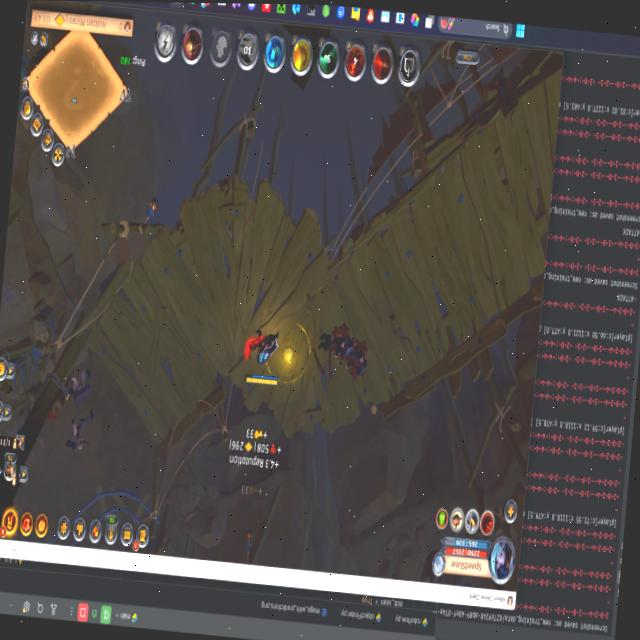ore: (63, 404, 95, 458), (62, 359, 94, 405)
red: (242, 320, 284, 390)
